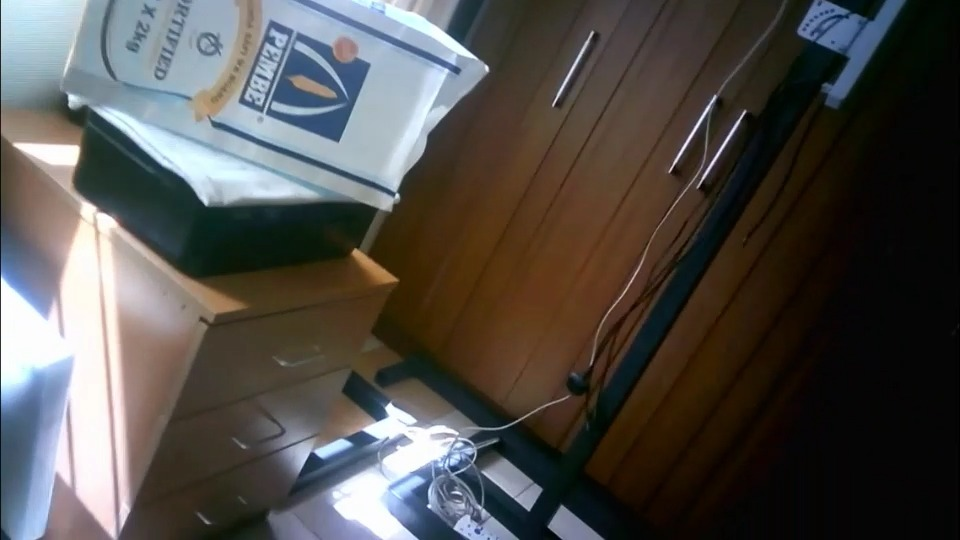wheat_flour_blue_label: (60, 0, 477, 206)
